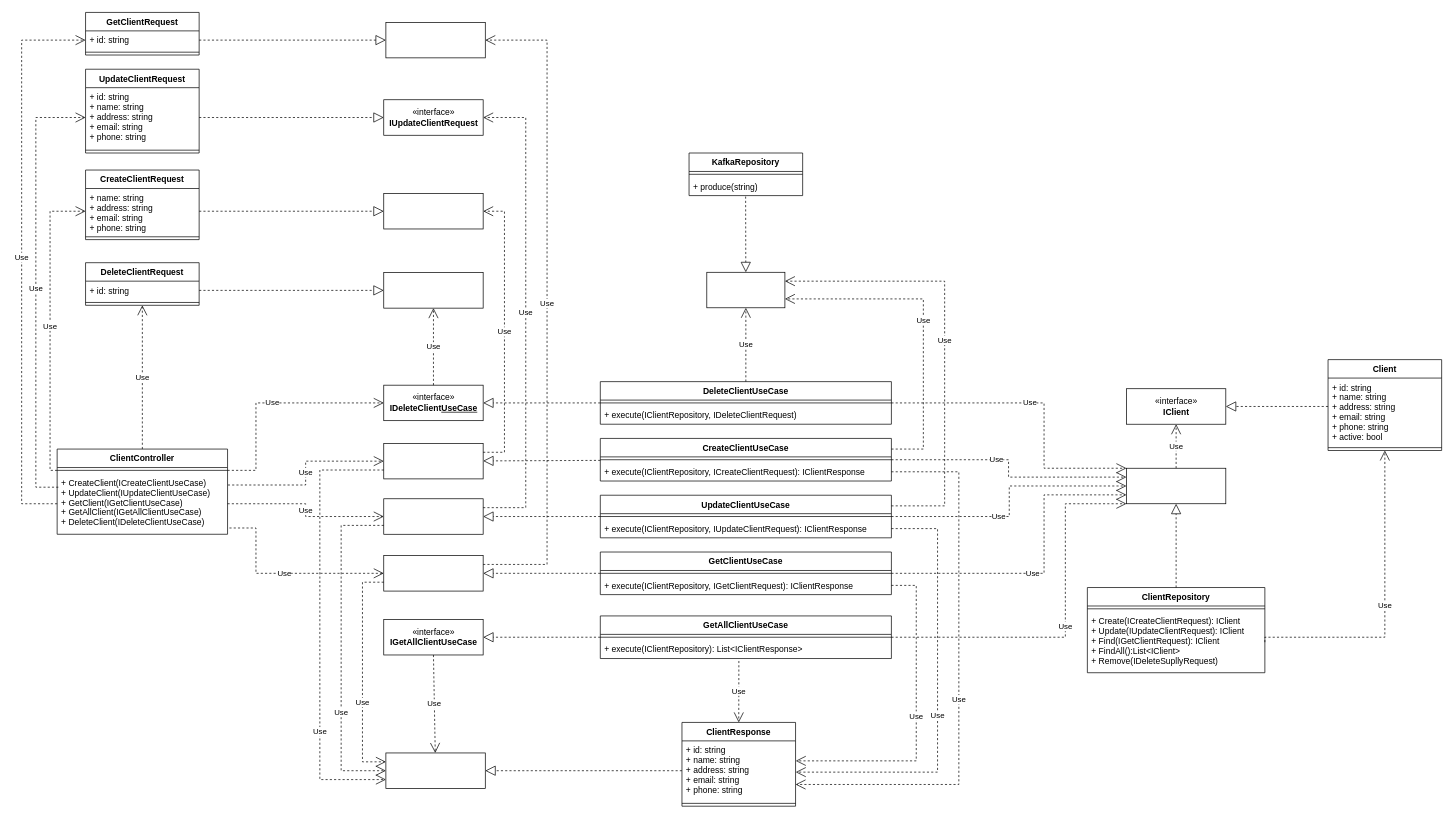
The diagram is 1454 pixels wide and 819 high, and some of its shapes have lost their labels. The shapes that lost their labels are listed below. From the top down, each one's centre as x and y in pixels, then its label:
At (435,40): "«interface» IGetClientRequest".
At (433,211): "«interface» ICreateClientRequest".
At (433,290): "«interface» IDeleteClientRequest".
At (745,290): "«interface» IKafkaRepository".
At (433,461): "«interface» ICreateClientUseCase".
At (1176,486): "«interface» IClientRepository".
At (433,516): "«interface» IUpdateClientUseCase".
At (433,573): "«interface» IGetClientUseCase".
At (435,770): "«interface» IClientResponse".
